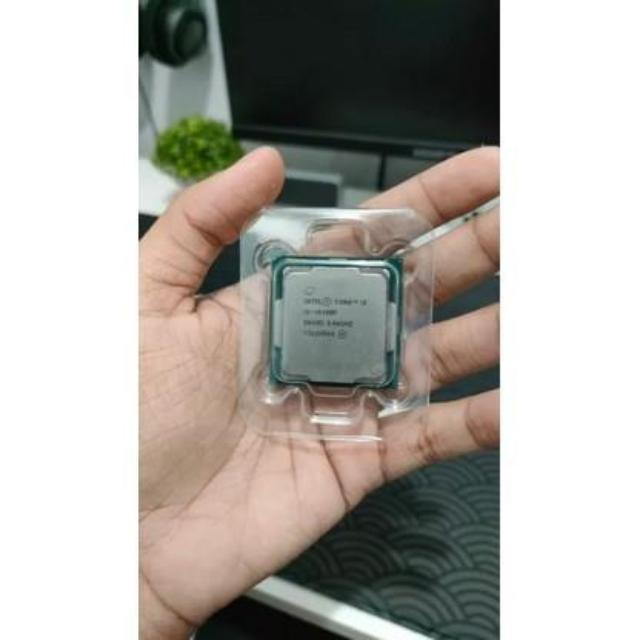CPU: (273, 256, 398, 390)
